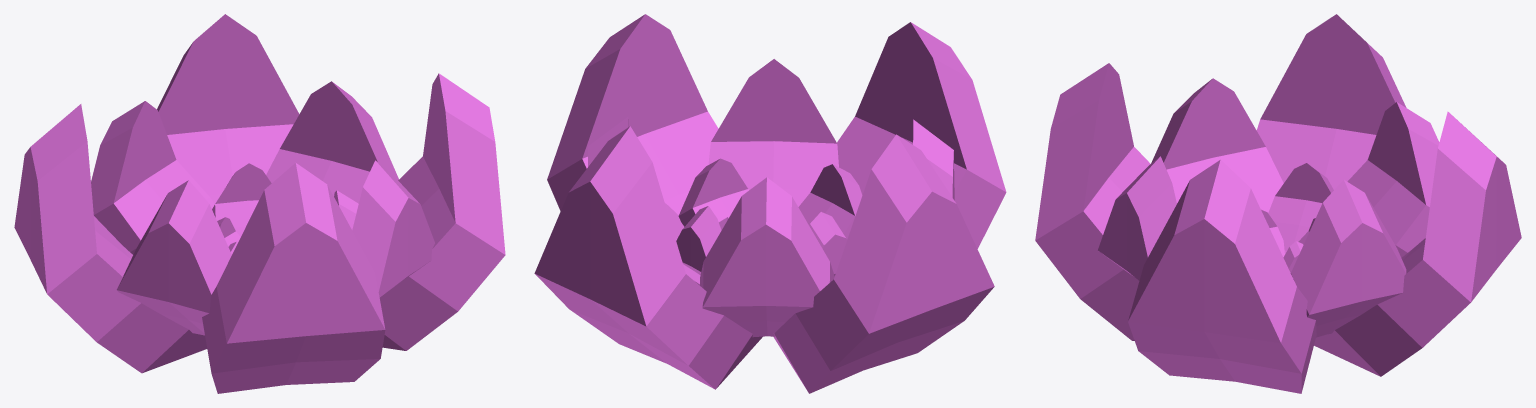
The model's file is LotusFlower_SM.fbx.
3 views of the same model, side by side, from view 1: azimuth 30°, elevation 25°; view 2: azimuth 150°, elevation 25°; view 3: azimuth 270°, elevation 25° (orthographic). The views are drawn at different scales.
Visible parts, largest first — view 1: LotusFlower_SM; view 2: LotusFlower_SM; view 3: LotusFlower_SM.
Part boxes in pixels (box(x1,y1,x2,y2)): LotusFlower_SM: box(14, 14, 505, 393); LotusFlower_SM: box(534, 14, 1006, 393); LotusFlower_SM: box(1035, 14, 1521, 393).
Bounding box in the file's own units: 32.39 × 17.71 × 32.
